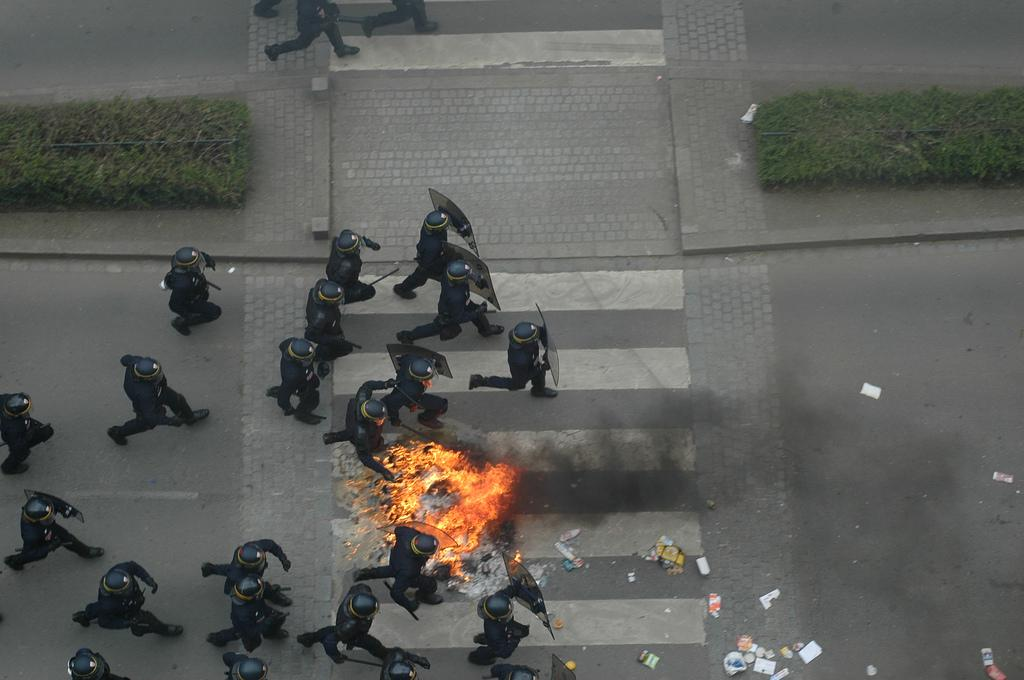fire: (390, 450, 465, 492), (443, 495, 503, 528)
